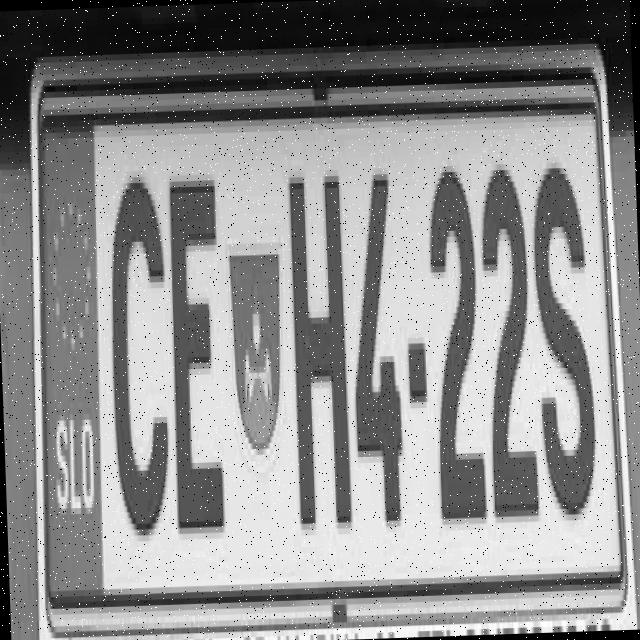EU: (28, 53, 626, 630)
Slovenie: (28, 101, 106, 598)
